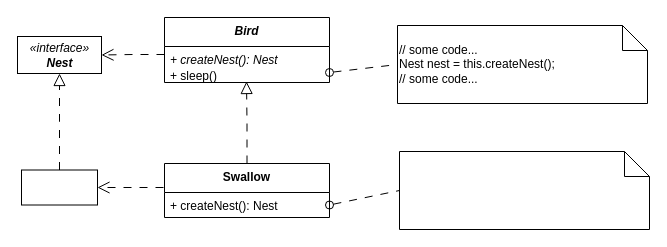
This 667x247 diagram has some shape labels left out. Here are the shapes that lost their labels. From the top down, the centre of each, then its label:
the point at 59,187: SwallowNest
the point at 524,190: // some code... nest = new SwallowNest(); // some code... return nest;
